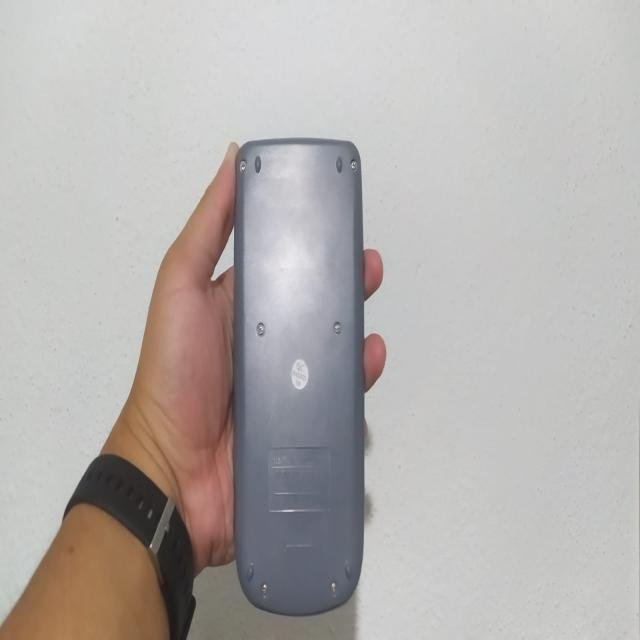Calculator: (235, 137, 363, 622)
